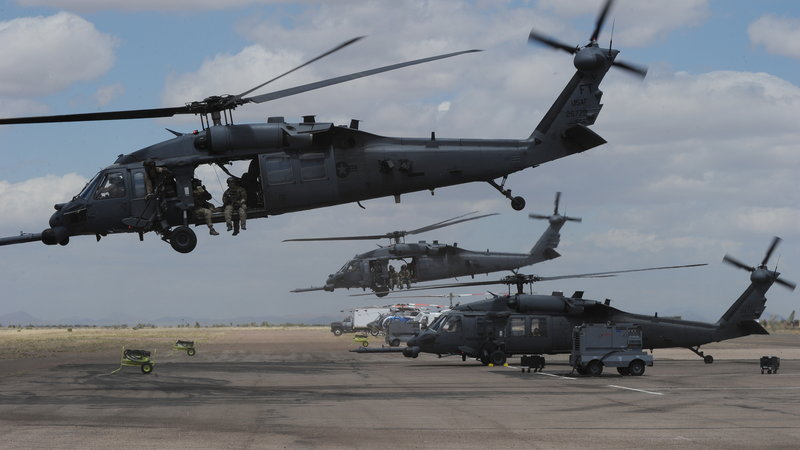MilitaryHelicopter: (49, 78, 622, 243), (407, 253, 796, 391)
